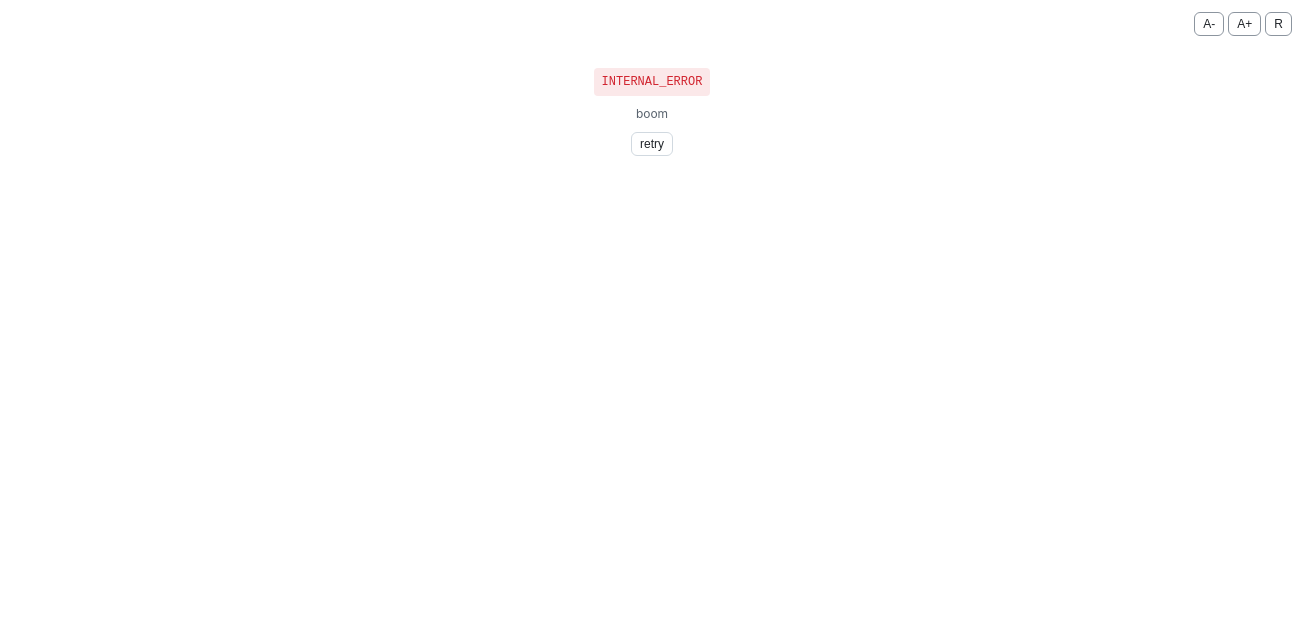
Test: RequestContextDiffPanel §7 › error 态显示错误码 + 重试按钮，点击重试再次请求
Click the button "retry" at [652, 144], box [631,132,673,156]
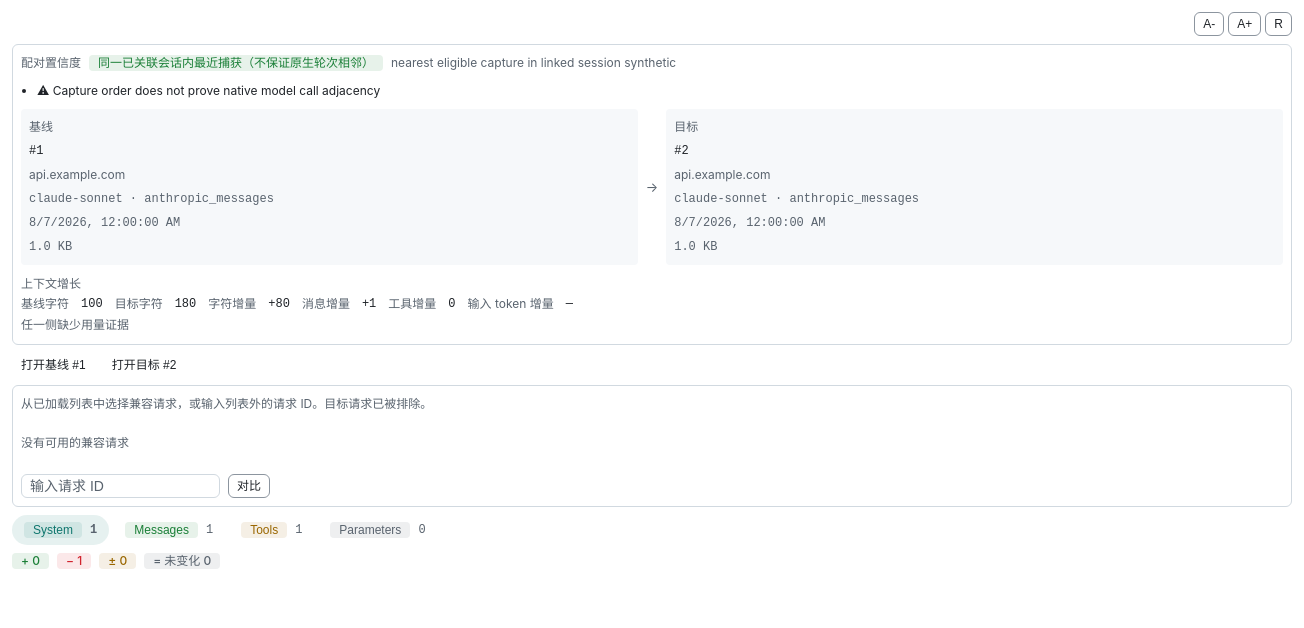
Result: the tab "Messages 1" is shown
Click the tab "Messages 1" at [169, 530], box [113,515,225,544]
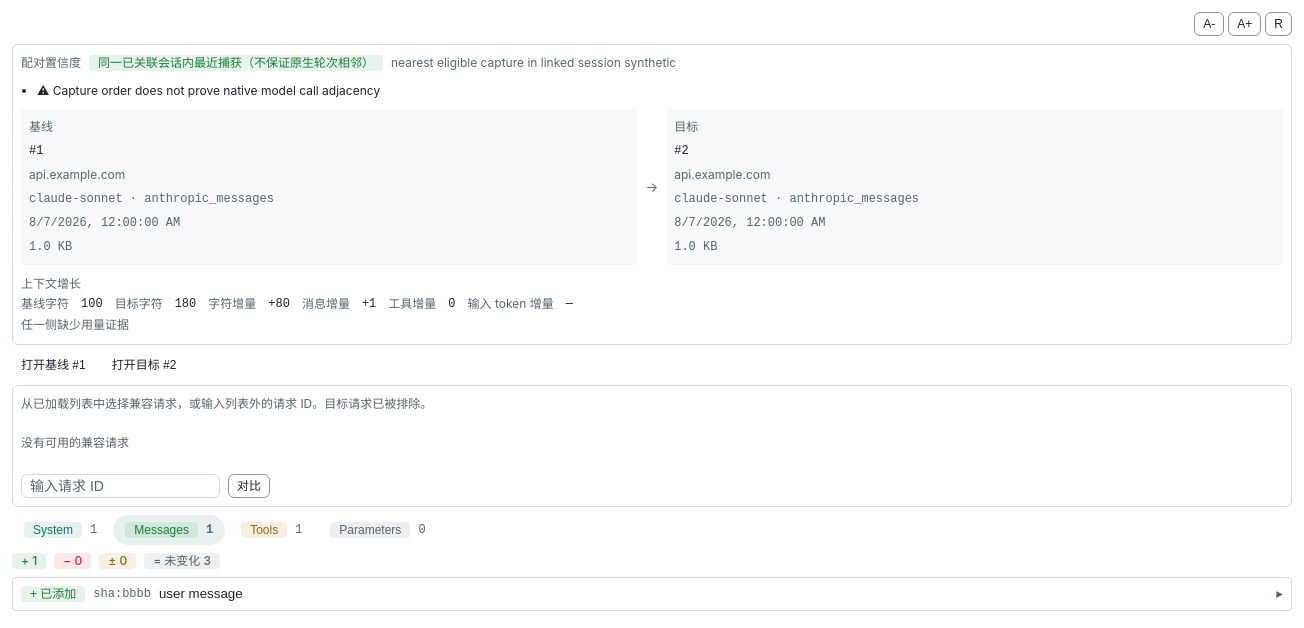
Result: the text "user message" is shown at [159,586,243,601]
